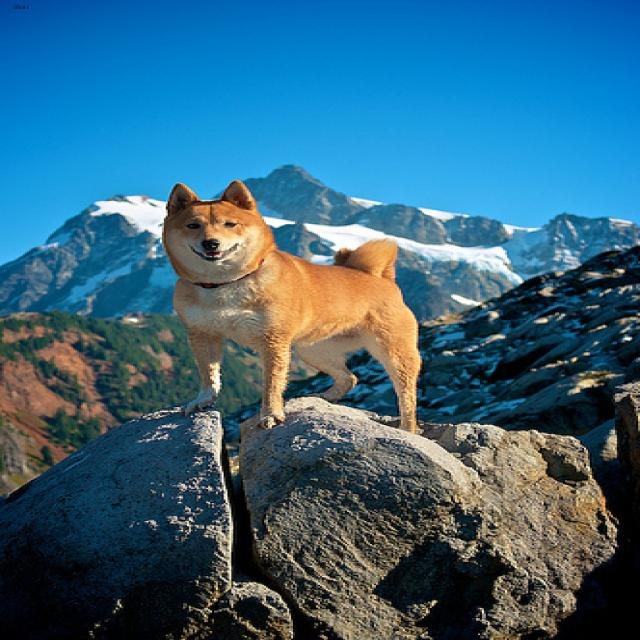dog-shiba_inu: (152, 175, 432, 438)
